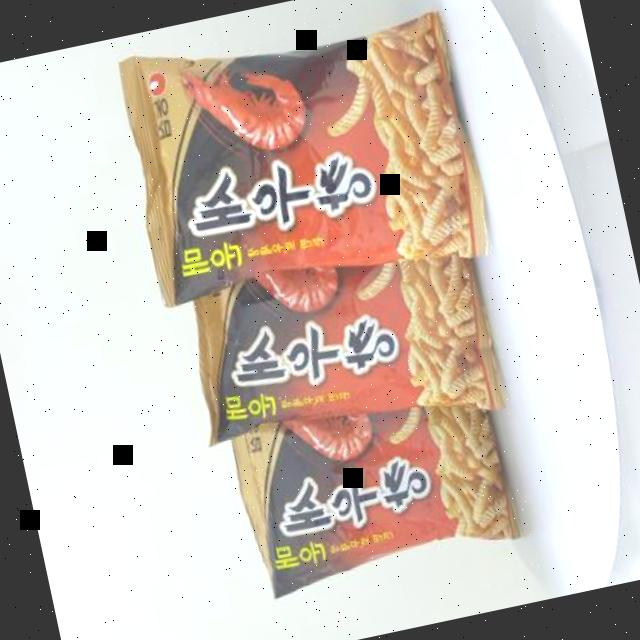snack_bag: (100, 0, 564, 629), (97, 0, 560, 626)
